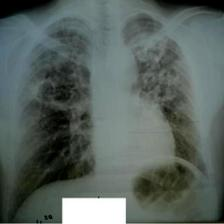tuberculosis: (7, 9, 215, 214)
